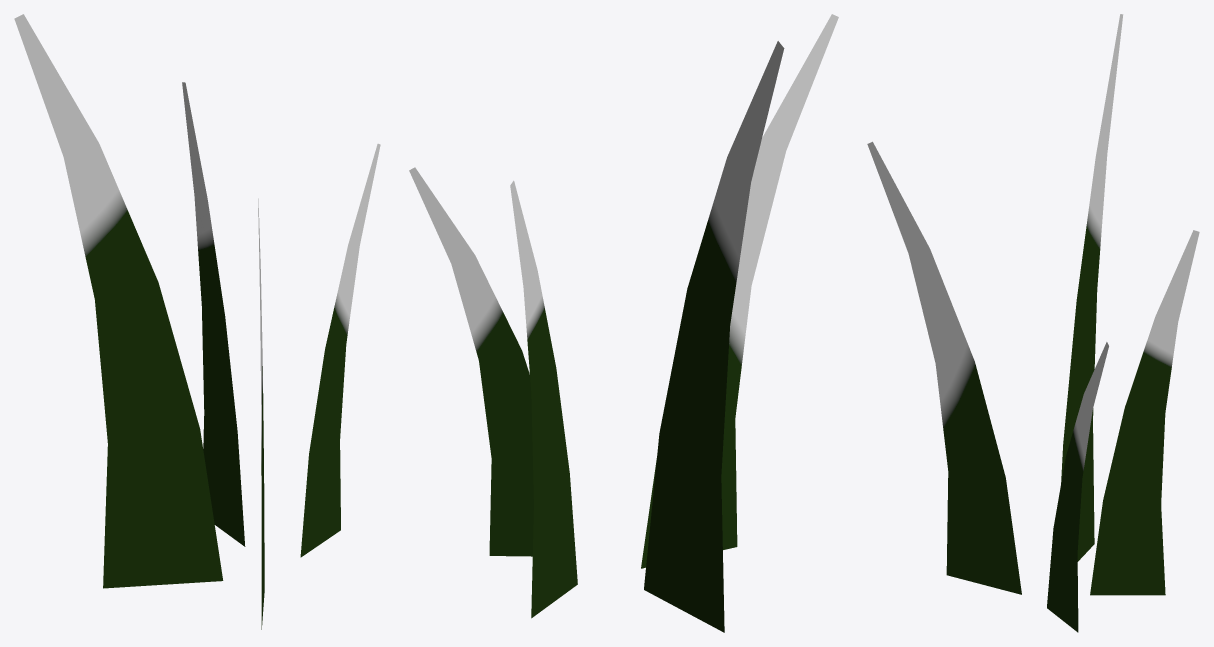
File: grass_lowpoly.fbx
The picture shows the model from 3 angles, left to right: view 1: azimuth 30°, elevation 25°; view 2: azimuth 150°, elevation 25°; view 3: azimuth 270°, elevation 25°; orthographic projection. The views are drawn at different scales.
Visible parts, largest first — view 1: Plane.010; view 2: Plane.010; view 3: Plane.010.
Boxes of the visible parts, x1,y1,x2,y2 form: Plane.010: [14, 14, 380, 629]; Plane.010: [409, 14, 838, 632]; Plane.010: [867, 14, 1199, 632].
Bounding box in the file's own units: 7.01 × 10.84 × 6.49.
Materials: 1 (1 with a texture image).
